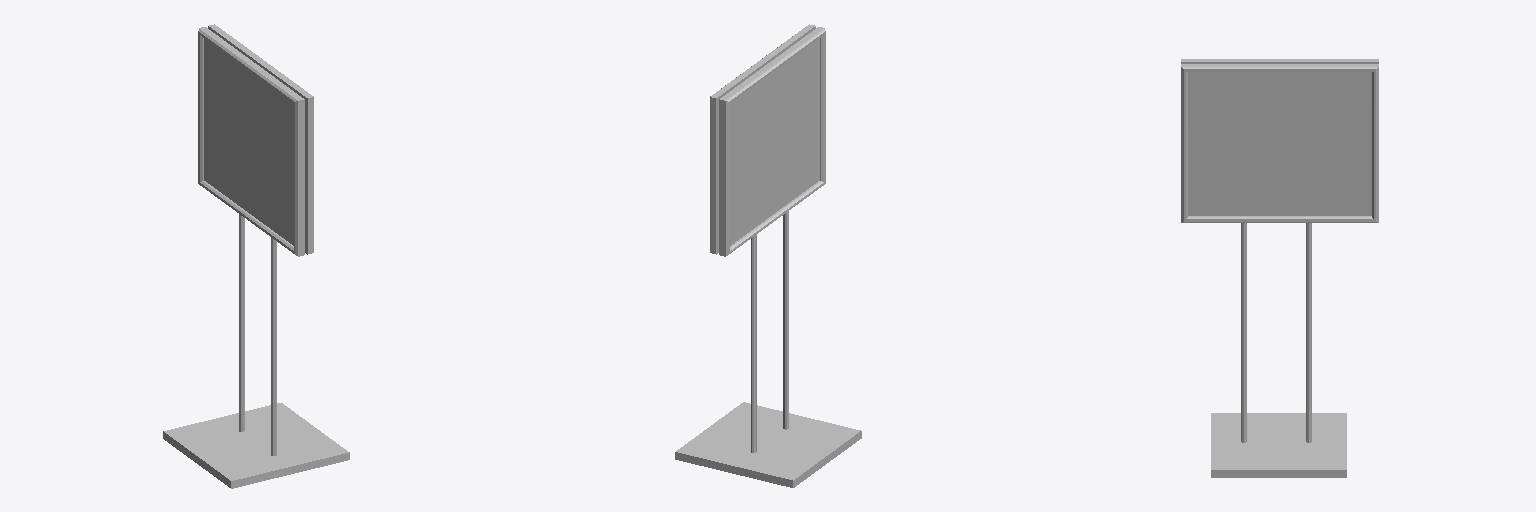
Rendered from sign1.obj.
3 renders of one model, left to right at view 1: azimuth 30°, elevation 25°; view 2: azimuth 150°, elevation 25°; view 3: azimuth 270°, elevation 25°, orthographic.
Visible parts, largest first — view 1: sign_1; view 2: sign_1; view 3: sign_1.
Boxes of the visible parts, x1,y1,x2,y2 form: sign_1: [163, 24, 349, 488]; sign_1: [675, 24, 861, 487]; sign_1: [1181, 59, 1378, 477].
Bounding box in the file's own units: 1.25 × 3.92 × 1.83.